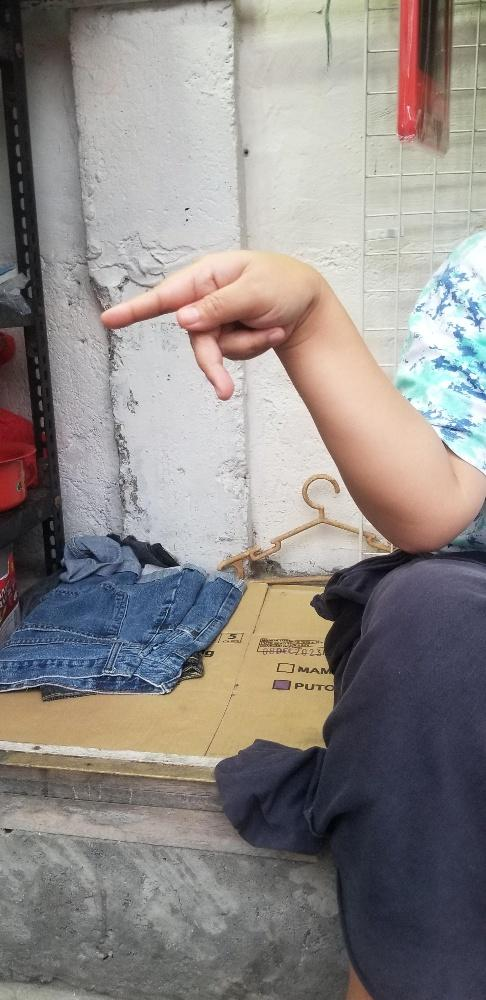p: (100, 249, 319, 401)
